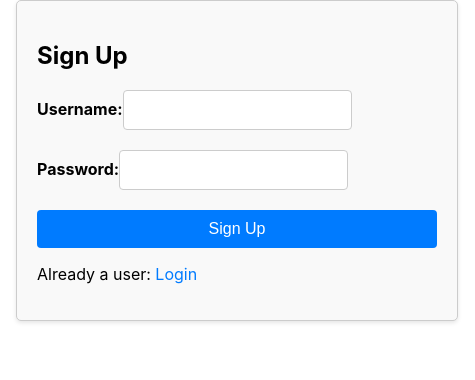
SignUpPageTesting › handles user input and form submission successfully
This screenshot has width=475, height=380.
// Simulate user input and form submission
Type "Chikku" into the field labelled "Username:".
click(237, 110); type("Chikku")  # box [123,90,352,130]
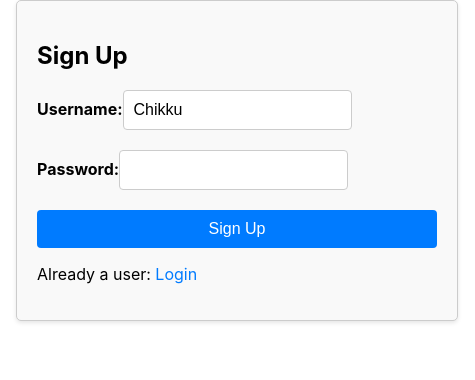
Type "test123" into the password field labelled "Password:".
click(234, 170); type("test123")  # box [119,150,348,190]
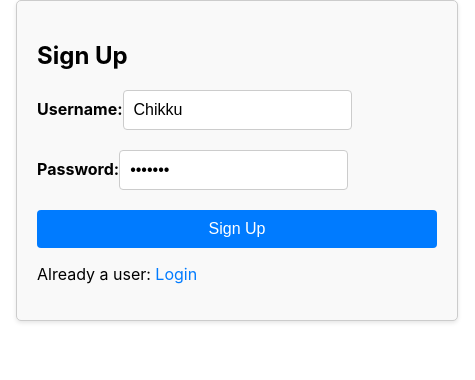
// simulate form submission
Click the button "Sign Up".
click(237, 229)  # box [37,210,437,248]
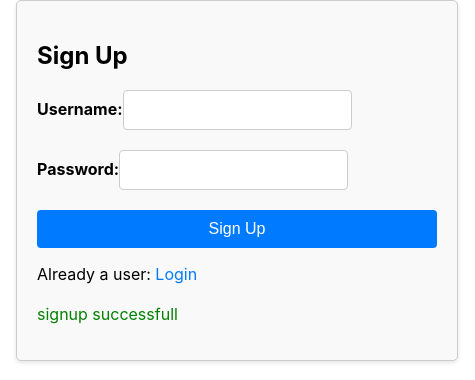
Now the text "signup successfull" is shown, box [37,304,178,324]
